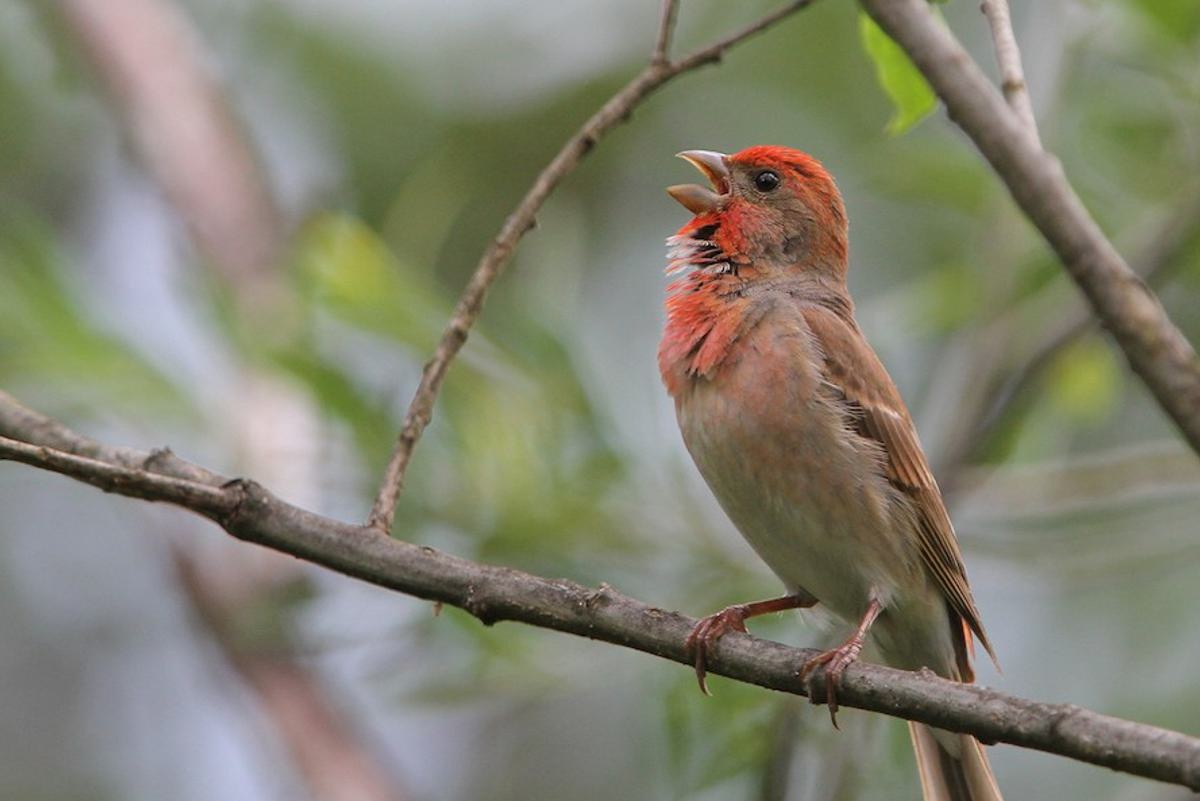rosefinch: (674, 108, 963, 705)
